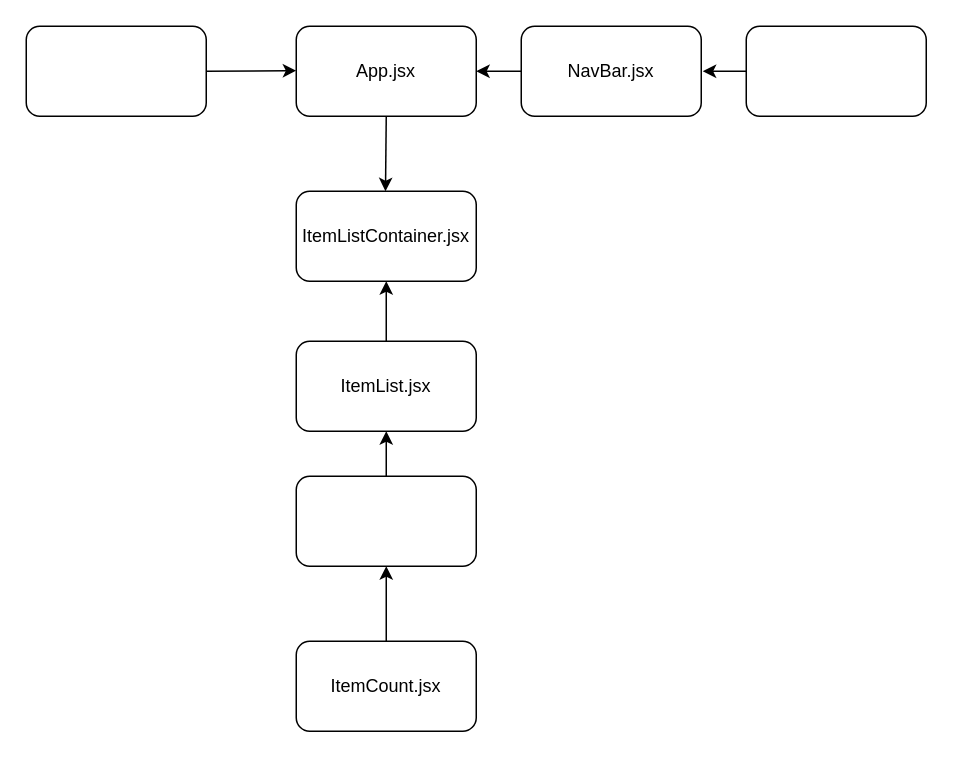
Image size: 953x758. Some labels were removed from this diagram. Here are the shapes that lost their labels. From the top down, the centre of each, then its label:
At [115,70]: "main.jsx".
At [835,70]: "CartWidget.jsx".
At [385,520]: "Item.jsx".
